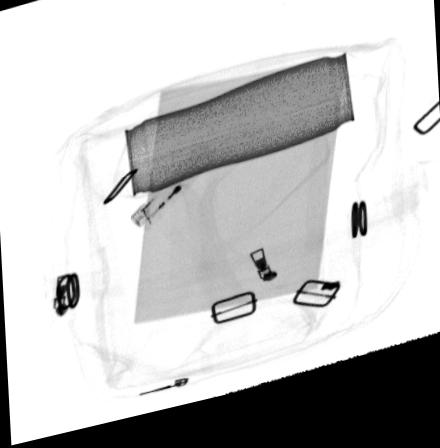Lighter: (129, 152, 220, 238)
